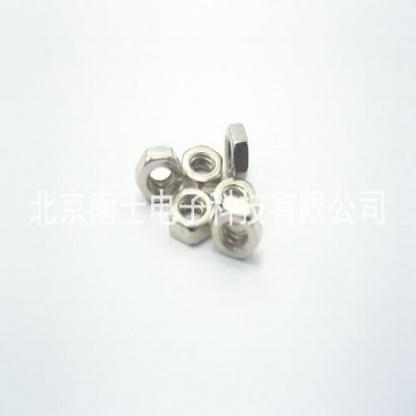FOD: (134, 144, 184, 210), (213, 207, 264, 262), (164, 190, 212, 243), (178, 143, 224, 192), (211, 176, 260, 212), (226, 120, 251, 187)
